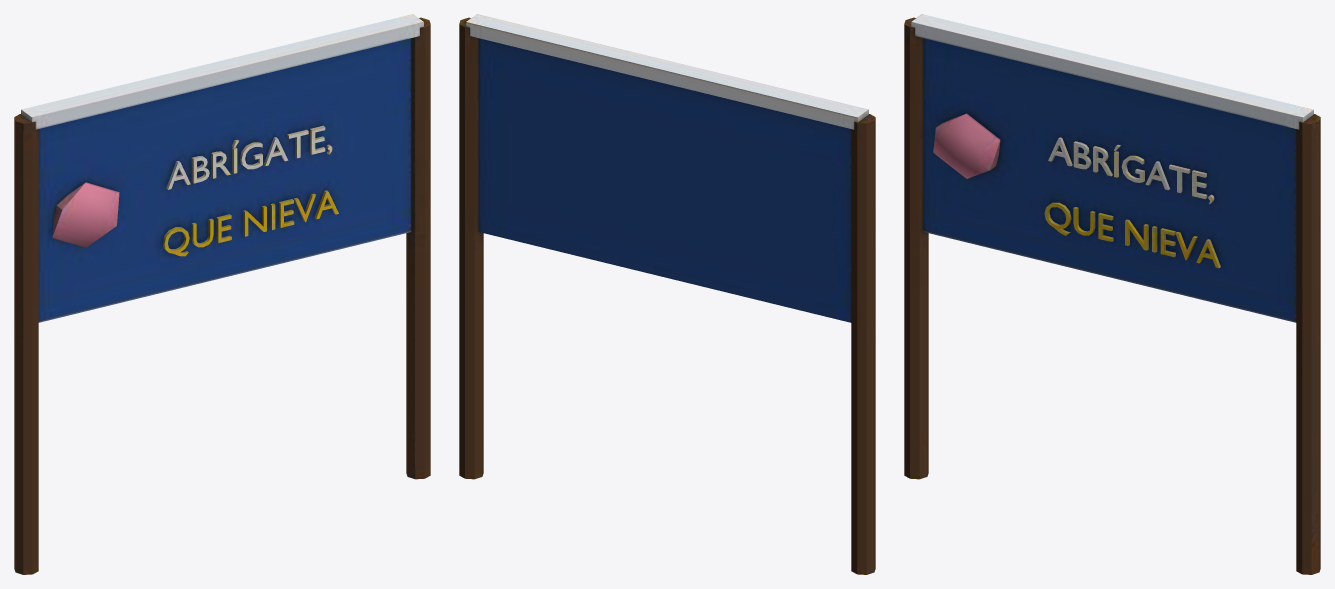
File: cartel_nh.glb
The picture shows the model from 3 angles, left to right: view 1: azimuth 30°, elevation 25°; view 2: azimuth 150°, elevation 25°; view 3: azimuth 330°, elevation 25°; orthographic projection.
Parts seen in each view (by area): view 1: cartel_nh; view 2: cartel_nh; view 3: cartel_nh.
Boxes of the visible parts, x1,y1,x2,y2 form: cartel_nh: (14, 14, 430, 574); cartel_nh: (459, 14, 875, 574); cartel_nh: (904, 14, 1320, 574).
Size of the model in its own units: 2.64 by 2.78 by 0.1881.
1 material, 1 textured.
